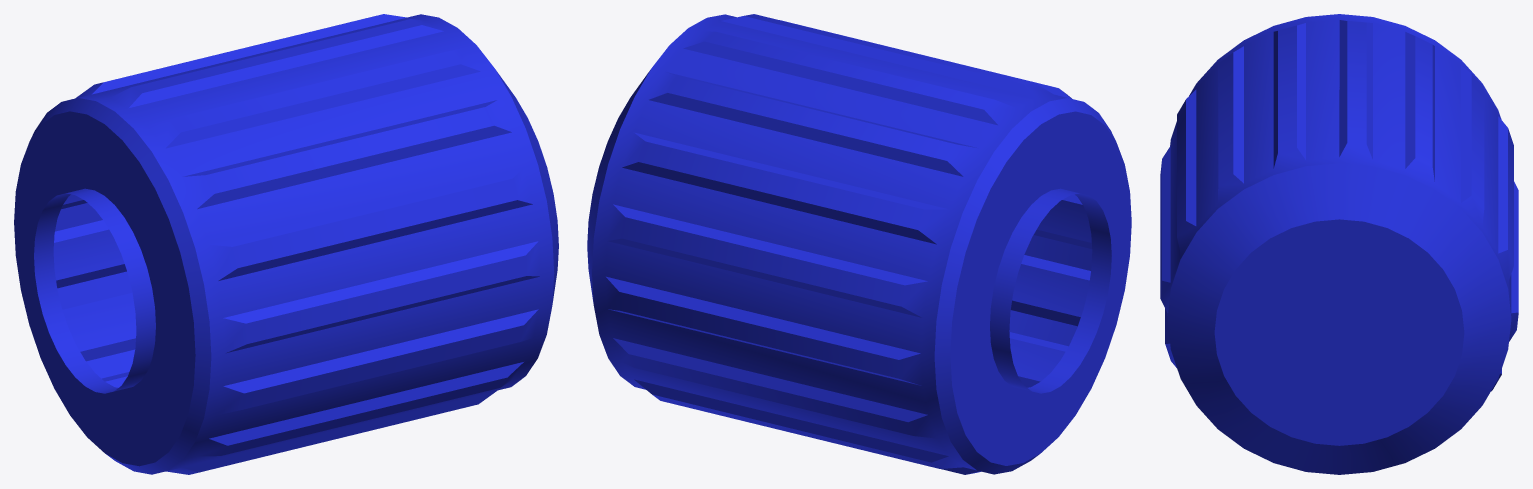
File: KnobR.glb
3 renders of one model, left to right at view 1: azimuth 30°, elevation 25°; view 2: azimuth 150°, elevation 25°; view 3: azimuth 270°, elevation 25°, orthographic. The views are drawn at different scales.
Visible parts, largest first — view 1: Knob.005; view 2: Knob.005; view 3: Knob.005.
Boxes of the visible parts, bbox=[...] form: Knob.005: bbox=[14, 14, 558, 474]; Knob.005: bbox=[587, 14, 1131, 474]; Knob.005: bbox=[1160, 14, 1518, 474].
Size of the model in its own units: 0.1617 by 0.1394 by 0.1394.
